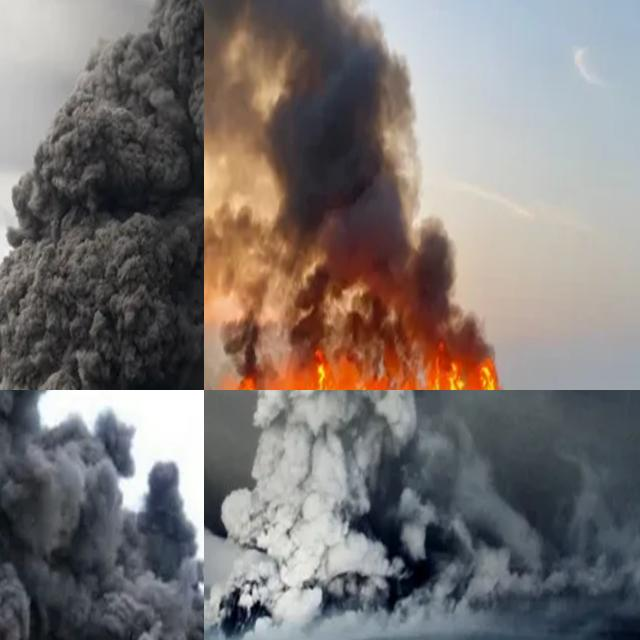smoke: (204, 0, 518, 384), (0, 0, 204, 390), (204, 390, 549, 603), (0, 390, 204, 640)
